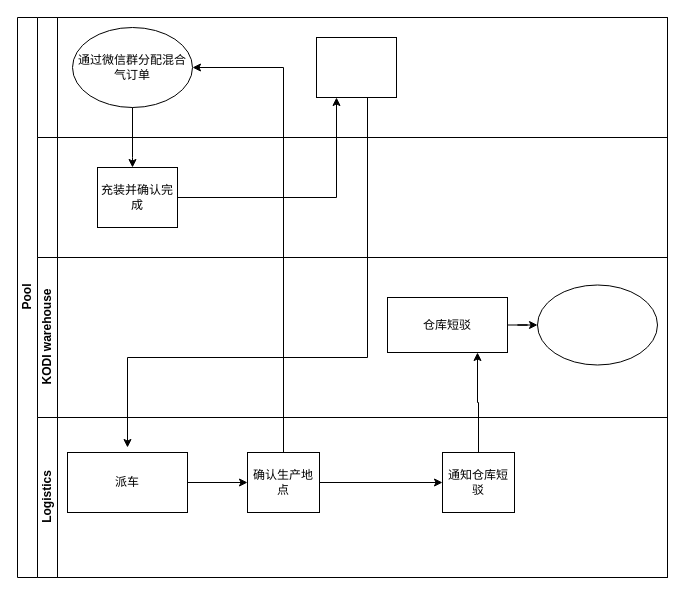
Some shapes in this 685 by 595 pixel diagram are drawn without their labels. Each missing label, with the box of its shape:
KODI Filling: (36, 16, 668, 138)
QY plant: (36, 136, 668, 258)
发货: (536, 284, 658, 365)
在WIP系统上确认: (316, 36, 396, 98)
